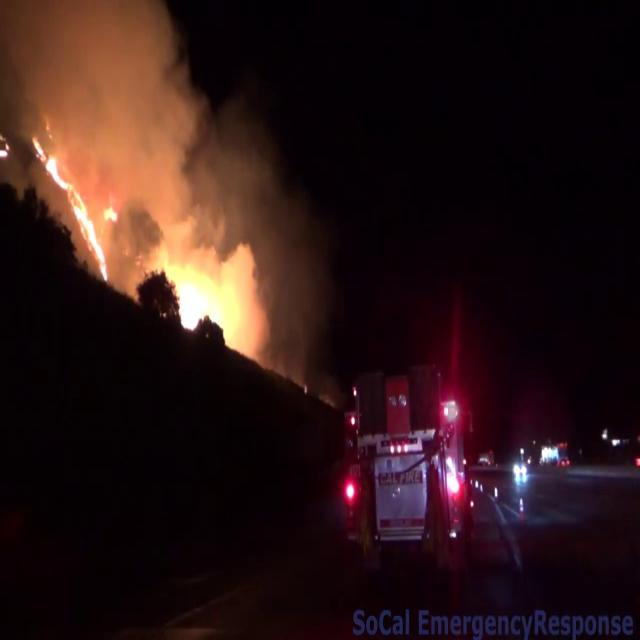Fire: (42, 125, 112, 283), (156, 230, 242, 354)
Smoke: (1, 0, 324, 293)
